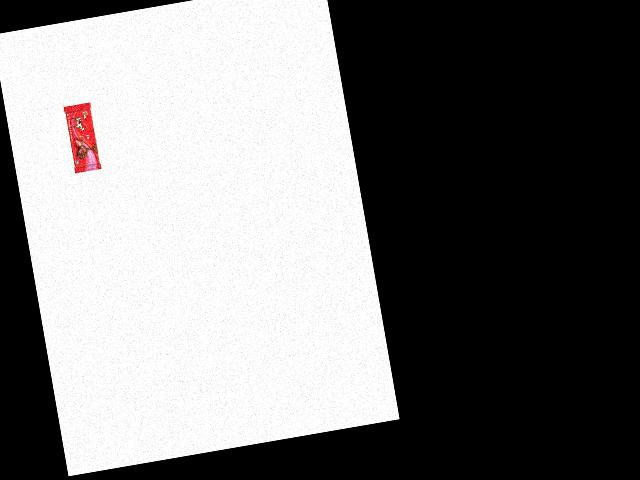chocolate: (57, 97, 101, 174)
